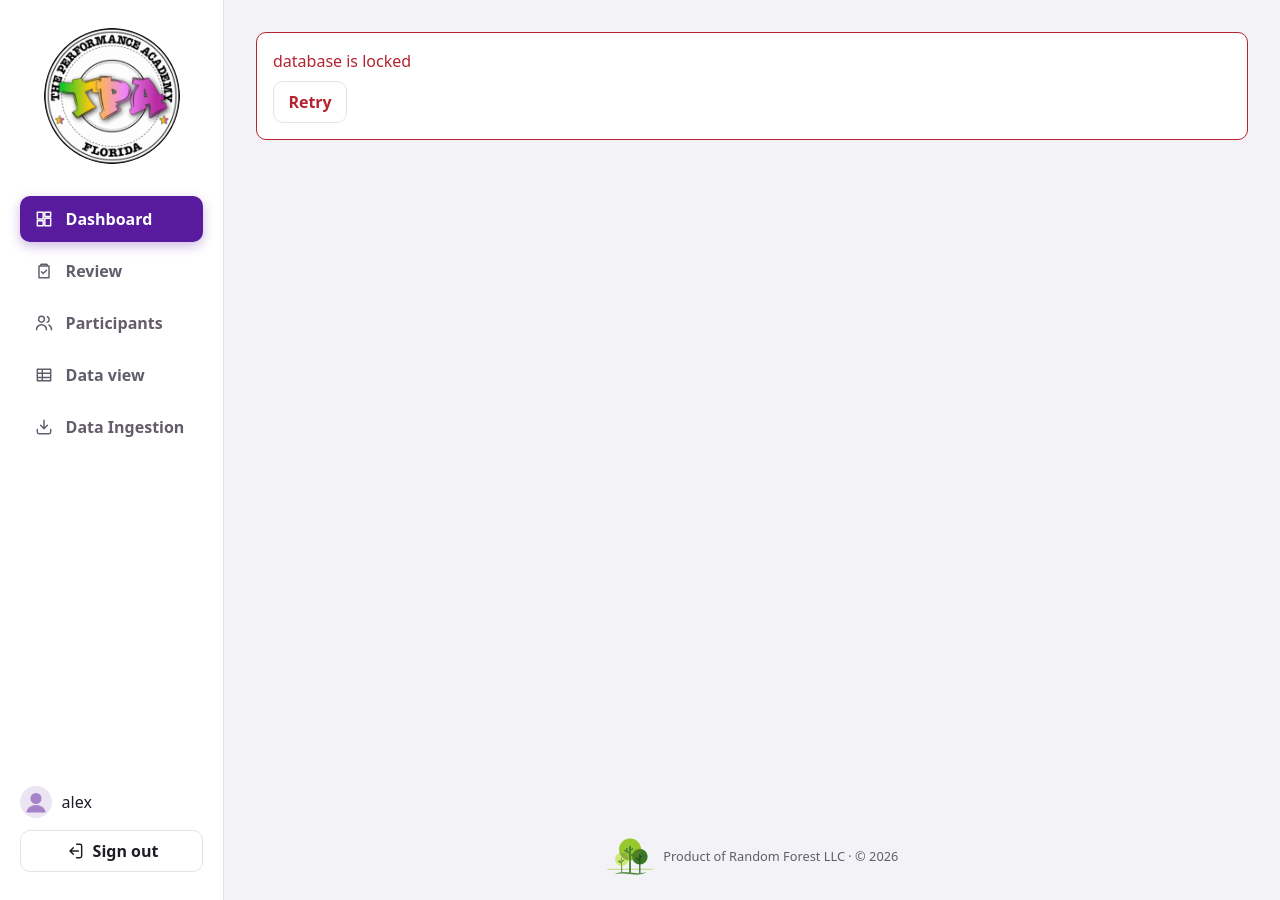
Test case: dashboard › shows a retryable error when the service fails
The width and height of the screenshot is (1280, 900).
Expected: the message shows "database is locked", [273,50,411,72]
What coordinates should you click on to do the following:
click the button "Retry"
I would click on:
 (310, 102)
Its box is [273,81,347,123].
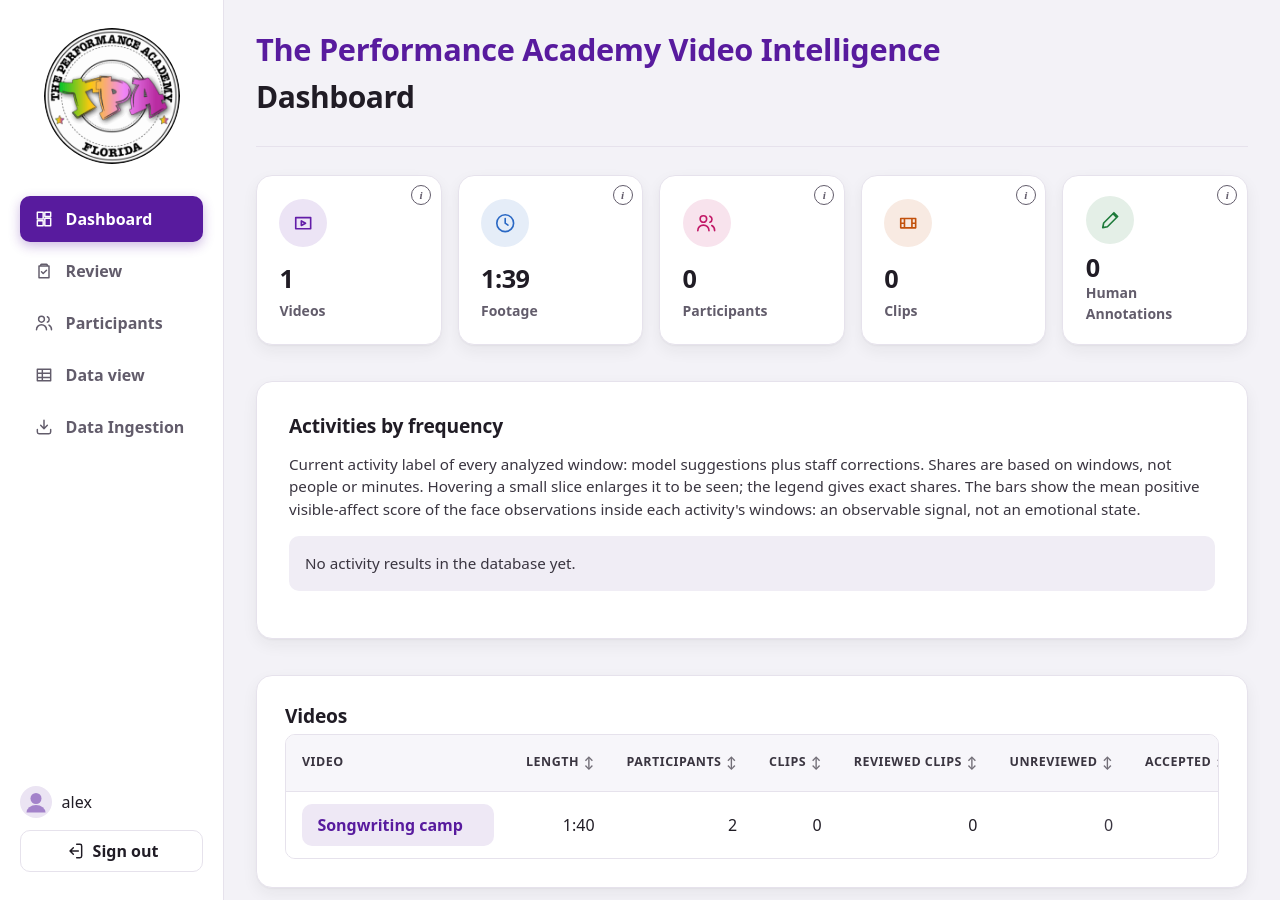
Result: the link "Songwriting camp" is shown at [302,804,494,846]
